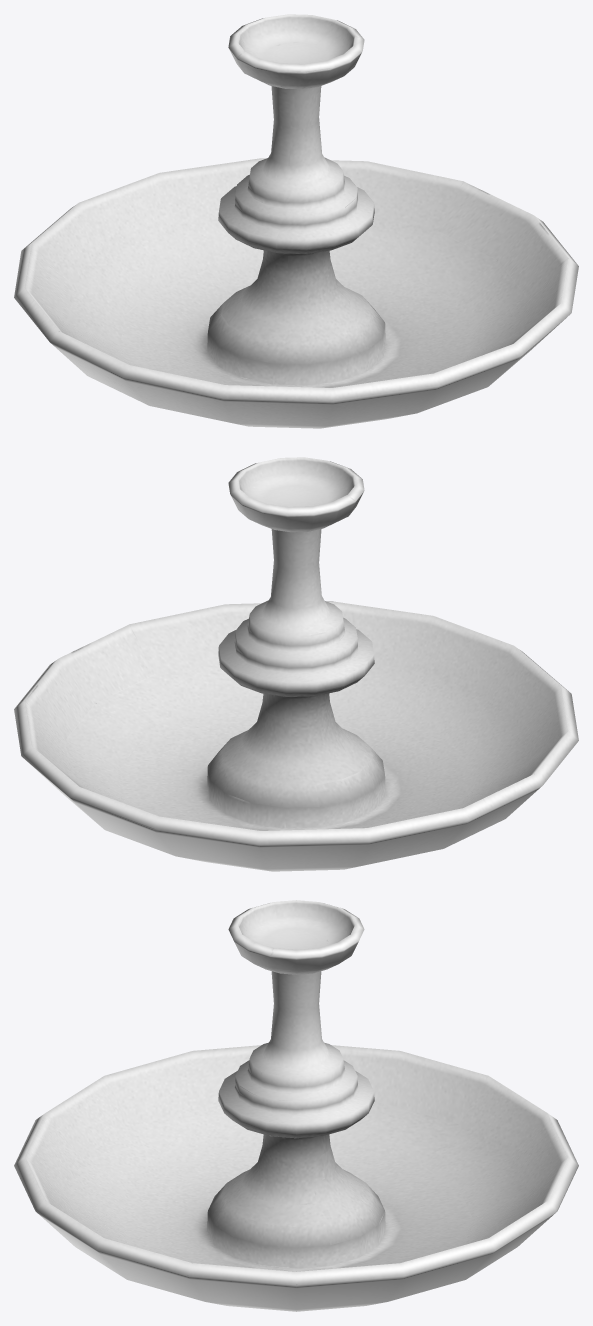
Rendered from Fountain.fbx.
3 renders of one model, top to bottom at view 1: azimuth 30°, elevation 25°; view 2: azimuth 150°, elevation 25°; view 3: azimuth 270°, elevation 25°, orthographic.
Parts seen in each view (by area): view 1: fountain; view 2: fountain; view 3: fountain.
Part boxes in pixels (x1,y1,x2,y2): fountain: [14, 14, 578, 428]; fountain: [14, 457, 578, 871]; fountain: [14, 900, 578, 1311].
Size of the model in its own units: 264 by 173 by 264.
